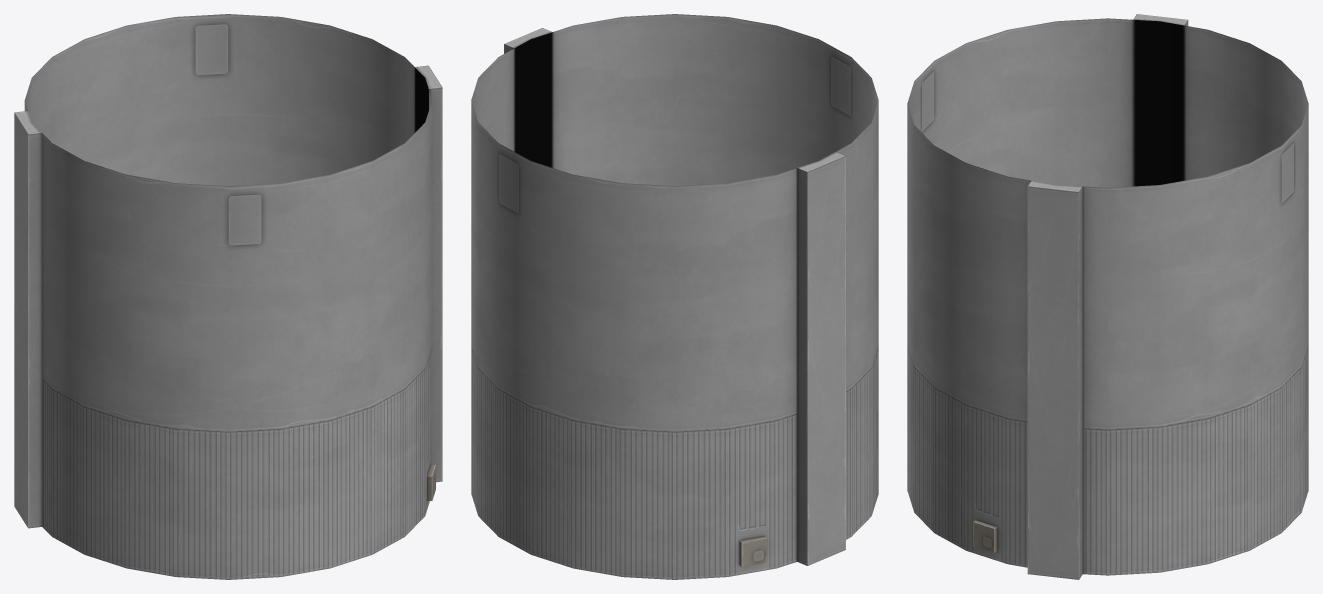
Rendered from fuel tank 2m.obj.
The picture shows the model from 3 angles, left to right: view 1: azimuth 30°, elevation 25°; view 2: azimuth 150°, elevation 25°; view 3: azimuth 270°, elevation 25°; orthographic projection.
Parts seen in each view (by area): view 1: 1; view 2: 1; view 3: 1.
Boxes of the visible parts, x1,y1,x2,y2 form: 1: (14,14,442,579); 1: (471,14,878,579); 1: (907,14,1308,579).
Size of the model in its own units: 1.97 by 2 by 1.88.
1 material, 1 textured.
